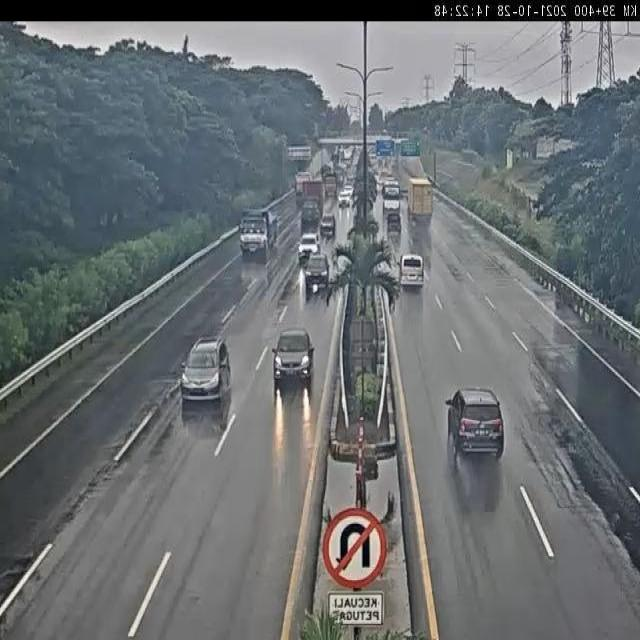Car: (446, 387, 504, 460), (181, 333, 232, 404), (271, 328, 315, 392), (303, 250, 330, 296), (298, 232, 320, 261), (320, 214, 336, 238), (338, 187, 353, 207), (347, 170, 358, 190), (370, 162, 380, 180), (374, 175, 382, 192)
Truck: (240, 206, 281, 262), (407, 178, 434, 226), (299, 176, 323, 213), (322, 172, 338, 199), (386, 211, 402, 237)
Van: (399, 253, 425, 289)
